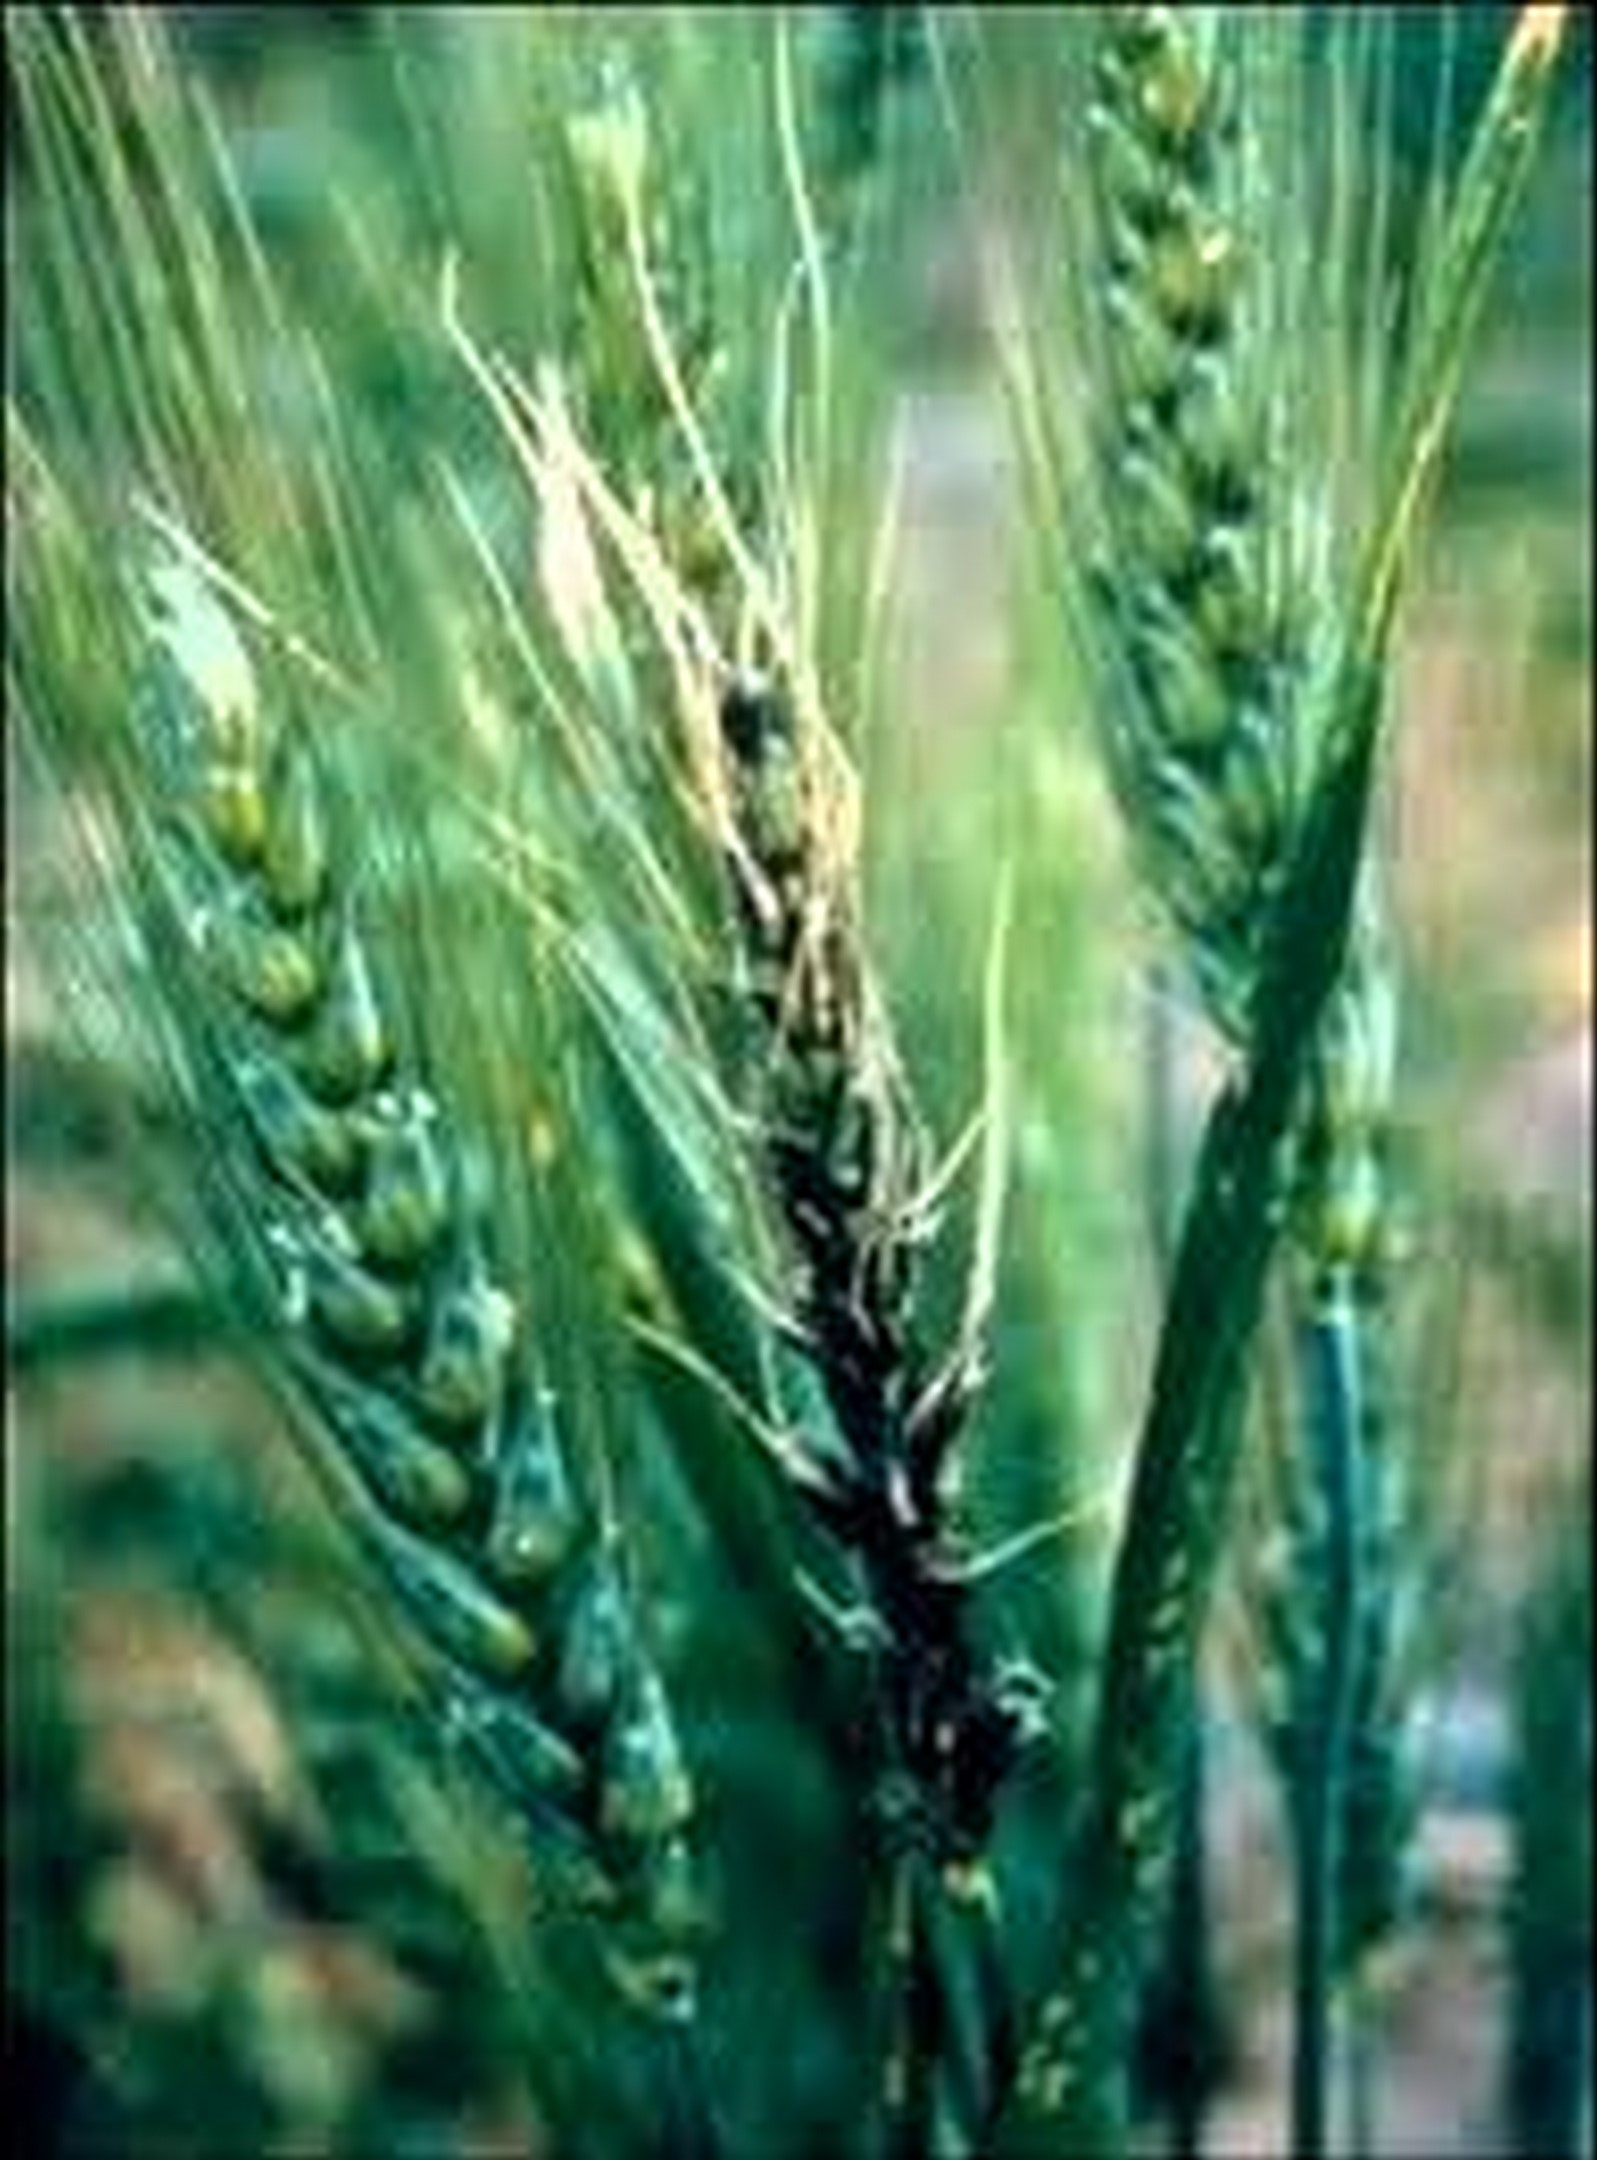Wheat Loose Smut: (706, 776, 1080, 1749)
